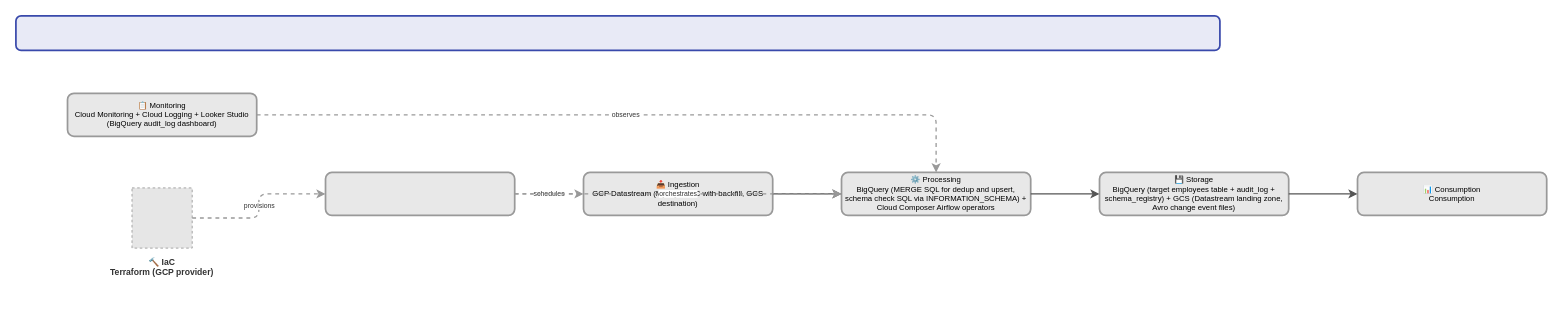
Image size: 1562x309. Some labels were removed from this diagram. Grey dashed boxes stand in for pictures. Each missing label, with the centre of its shape:
Data Pipeline Architecture: the point at 617,33
📅 Orchestration Cloud Composer 2 (managed Apache Airflow): the point at 419,193
